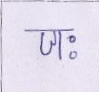anusvara: (70, 36, 76, 43)
